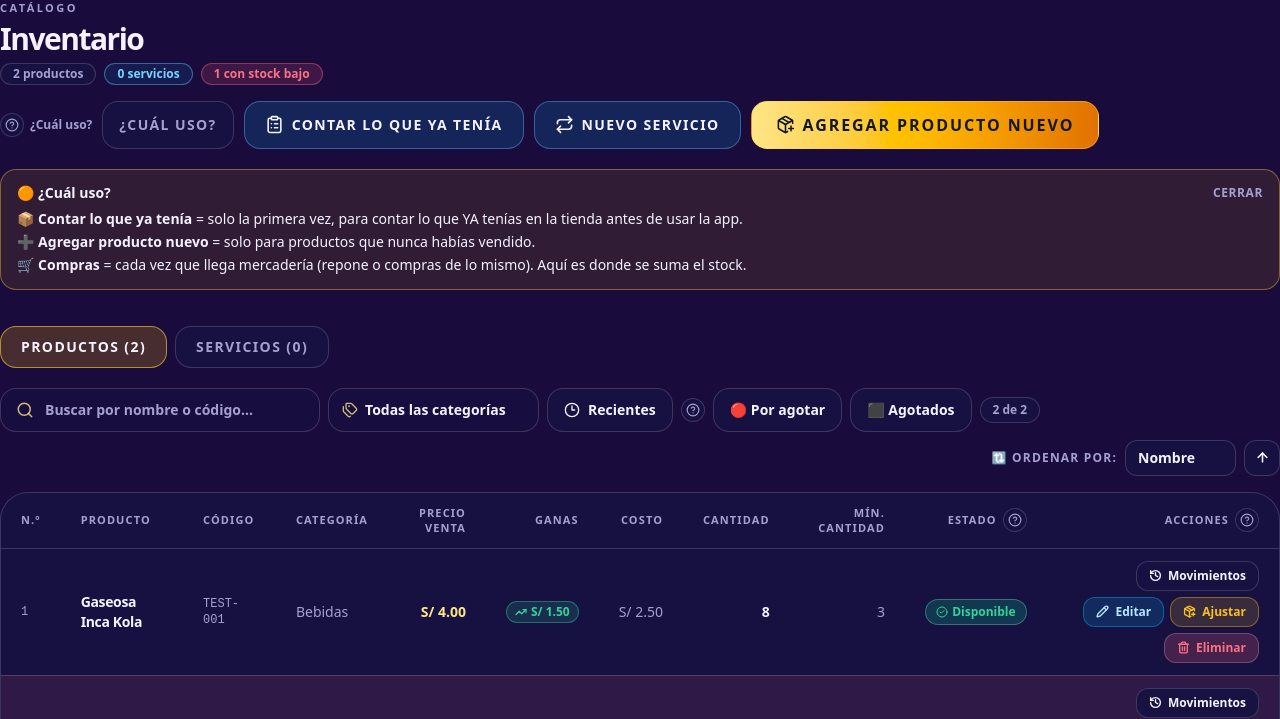
Test: InventoryPage › filtra las categorías al escribir en la carga de inventario inicial
Expected: the text "Gaseosa Inca Kola" is shown, [61, 548, 183, 675]
Click the button "Contar lo que ya tenía" at {"x": 384, "y": 124}, box [244, 100, 524, 148]
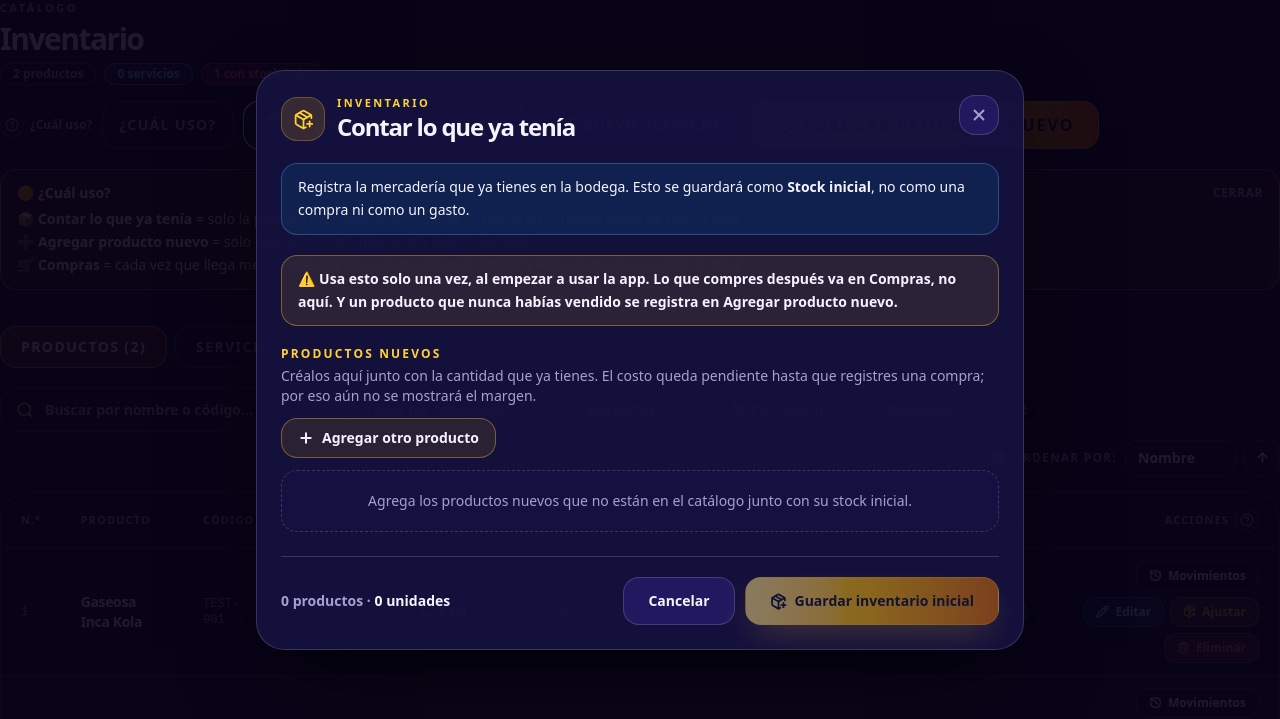
Click the button "Agregar otro producto" at {"x": 388, "y": 438}, box [281, 418, 496, 458]
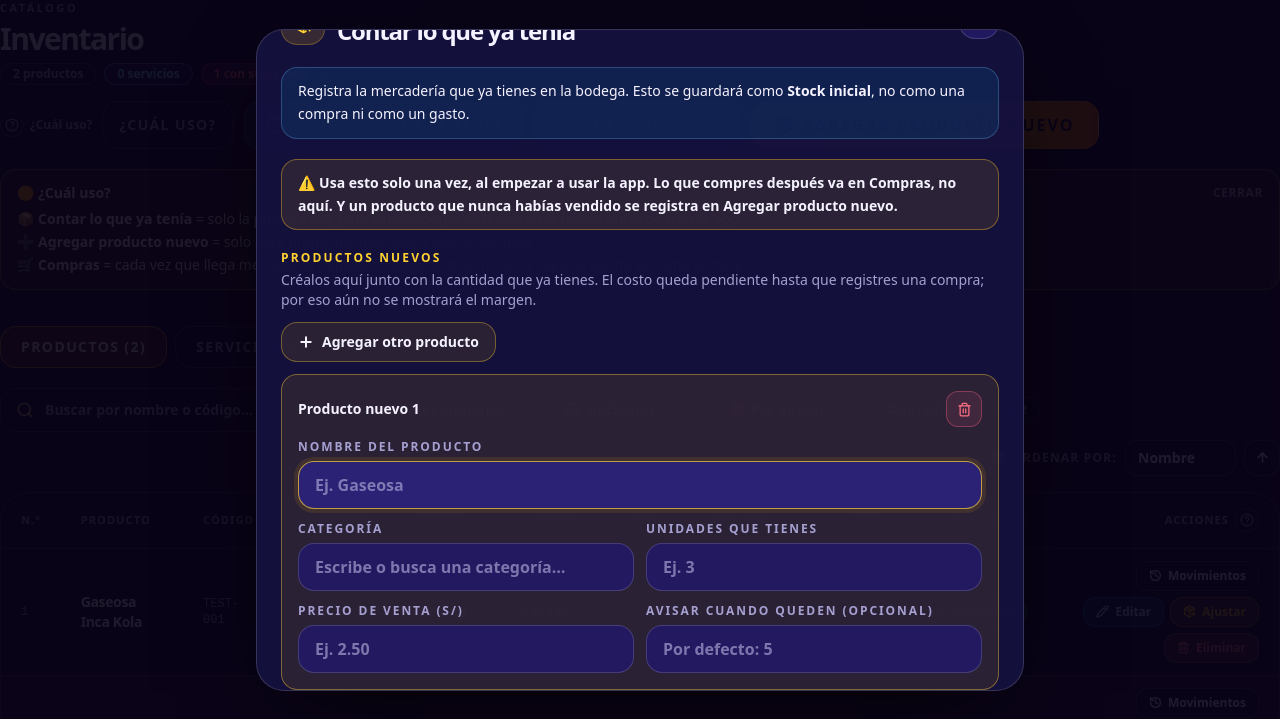
Type "Lact" into the field labelled "Categoría" at {"x": 466, "y": 567}, box [298, 543, 634, 591]
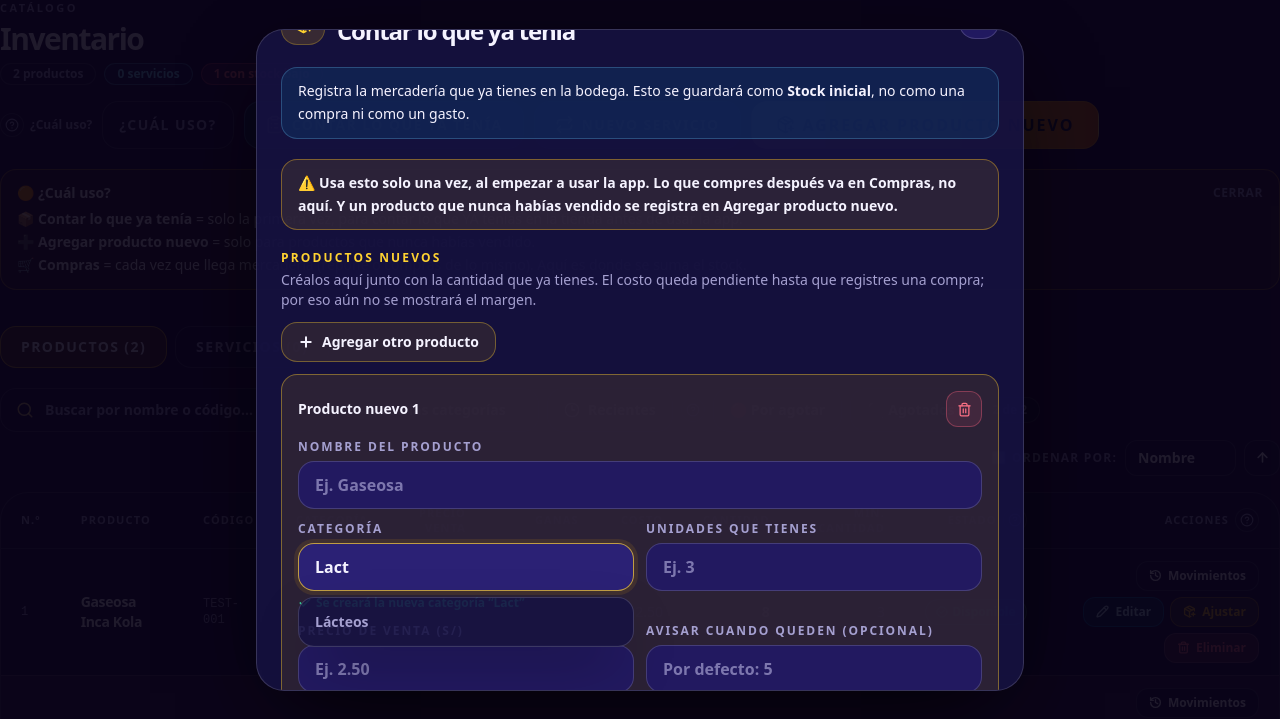
Click the button "Lácteos" at {"x": 342, "y": 622}, box [299, 604, 633, 640]
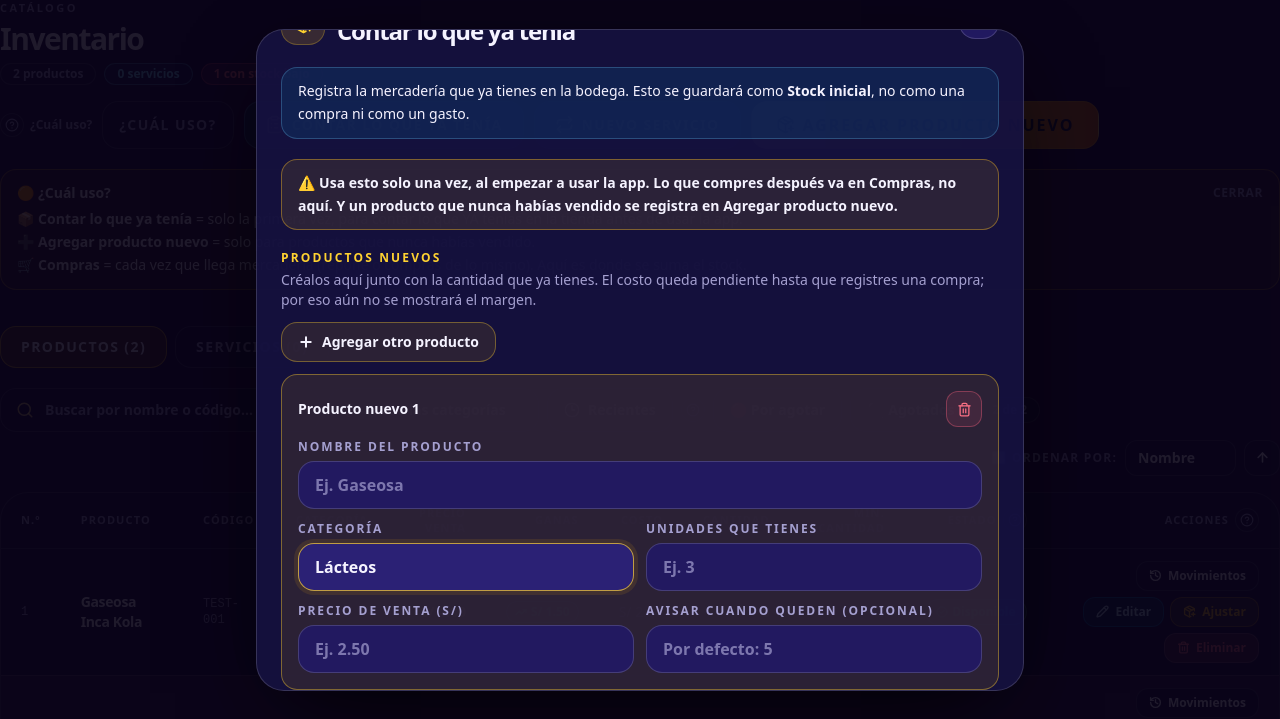
Now the field labelled "Categoría" holds "Lácteos", box [298, 543, 634, 591]
